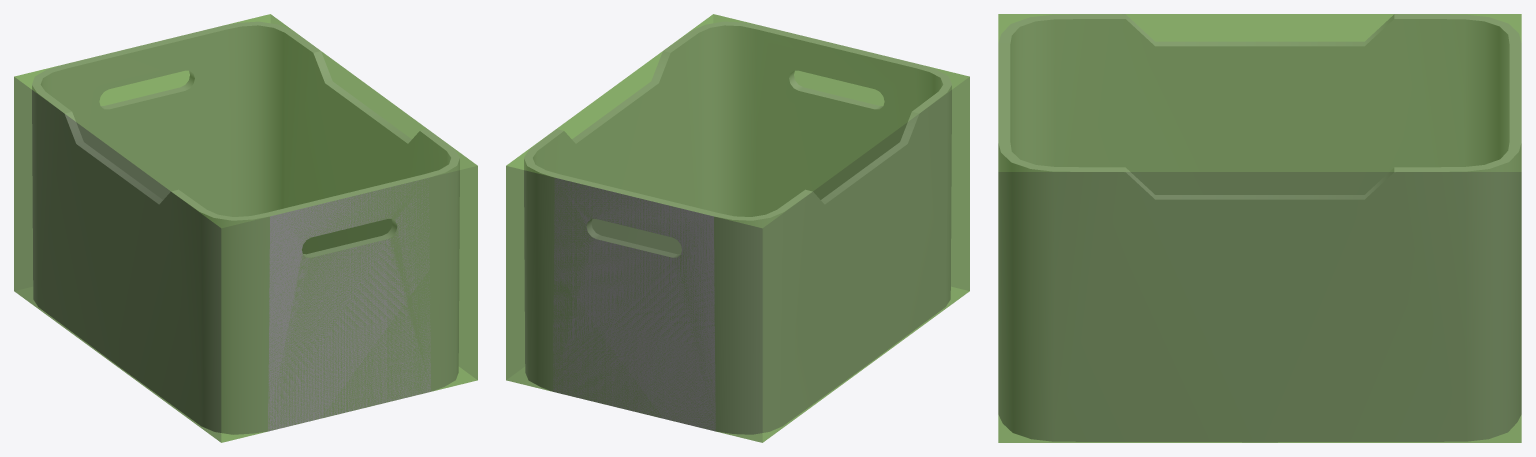
File: p_Crate_01_a.fbx
3 renders of one model, left to right at view 1: azimuth 30°, elevation 25°; view 2: azimuth 150°, elevation 25°; view 3: azimuth 270°, elevation 25°, orthographic. The views are drawn at different scales.
Parts seen in each view (by area): view 1: p_Crate_01_a_col, p_Crate_01_a_LOD0; view 2: p_Crate_01_a_LOD0, p_Crate_01_a_col; view 3: p_Crate_01_a_col, p_Crate_01_a_LOD0.
Part boxes in pixels (box(x1,y1,x2,y2)): p_Crate_01_a_col: box(14, 14, 477, 442); p_Crate_01_a_LOD0: box(32, 21, 459, 434); p_Crate_01_a_LOD0: box(524, 21, 951, 434); p_Crate_01_a_col: box(506, 14, 969, 442); p_Crate_01_a_col: box(998, 14, 1521, 442); p_Crate_01_a_LOD0: box(998, 14, 1521, 442).
Size of what is drawn, in the model's own units: 35.89 by 28.7 by 50.25.
